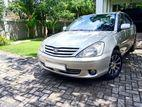car: (38, 11, 136, 80)
